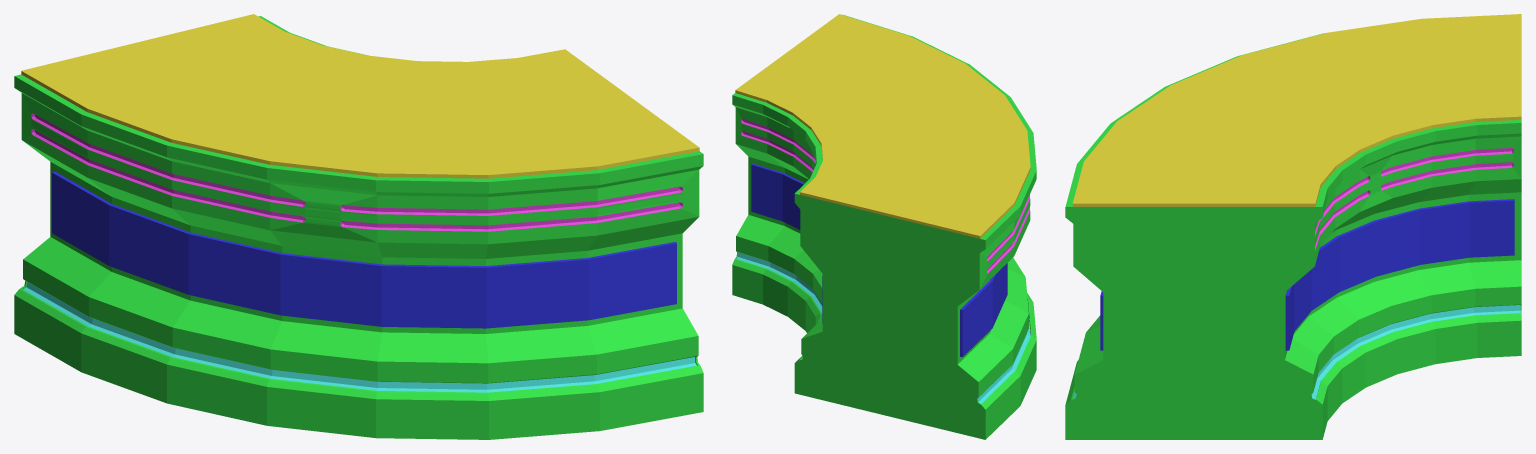
The model's file is Bar_Table_01_Corner_A.fbx.
The picture shows the model from 3 angles, left to right: view 1: azimuth 30°, elevation 25°; view 2: azimuth 150°, elevation 25°; view 3: azimuth 270°, elevation 25°; orthographic projection. The views are drawn at different scales.
Visible parts, largest first — view 1: Bar_Table_01_Corner_A; view 2: Bar_Table_01_Corner_A; view 3: Bar_Table_01_Corner_A.
Boxes of the visible parts, x1,y1,x2,y2 form: Bar_Table_01_Corner_A: (14, 14, 703, 439); Bar_Table_01_Corner_A: (732, 14, 1036, 439); Bar_Table_01_Corner_A: (1065, 14, 1521, 439).
Size of what is drawn, in the model's own units: 162 by 92.71 by 162.
